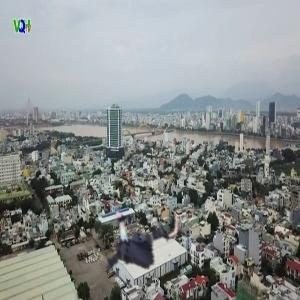drone: (91, 193, 188, 290)
